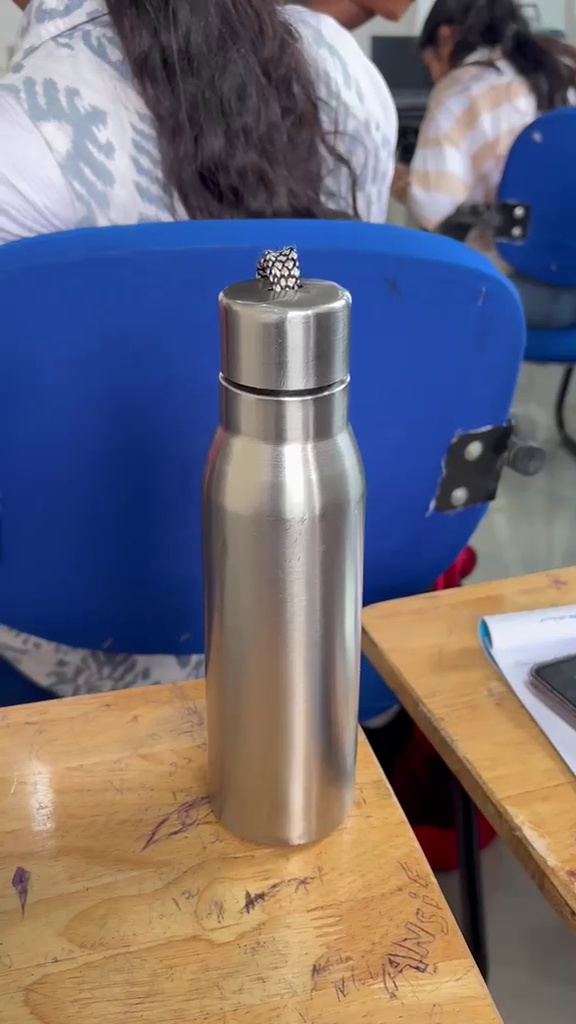Bottle: (200, 236, 374, 850)
